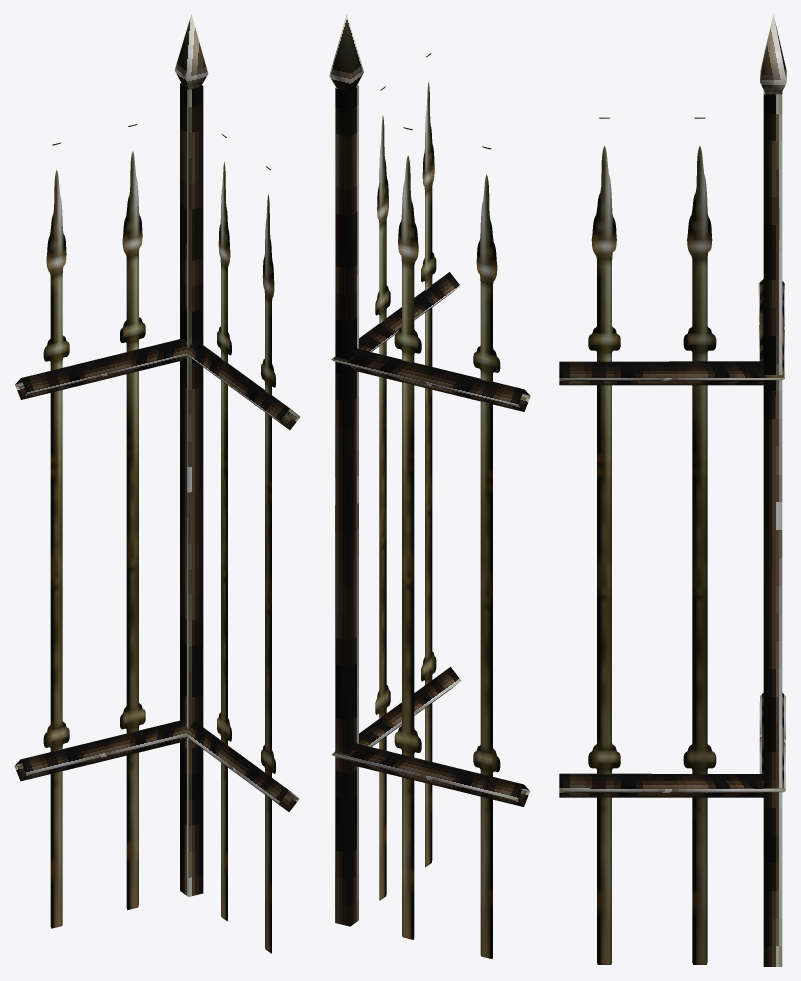
The model's file is SteelWall01.glb.
3 renders of one model, left to right at view 1: azimuth 30°, elevation 25°; view 2: azimuth 150°, elevation 25°; view 3: azimuth 270°, elevation 25°, orthographic. The views are drawn at different scales.
Parts seen in each view (by area): view 1: SteelWall01; view 2: SteelWall01; view 3: SteelWall01.
Part boxes in pixels (bbox=[...]): SteelWall01: bbox=[14, 14, 300, 953]; SteelWall01: bbox=[329, 14, 530, 958]; SteelWall01: bbox=[559, 14, 786, 966].
Bounding box in the file's own units: 0.5343 × 2.47 × 0.5355.
Materials: 2 (2 with a texture image).
